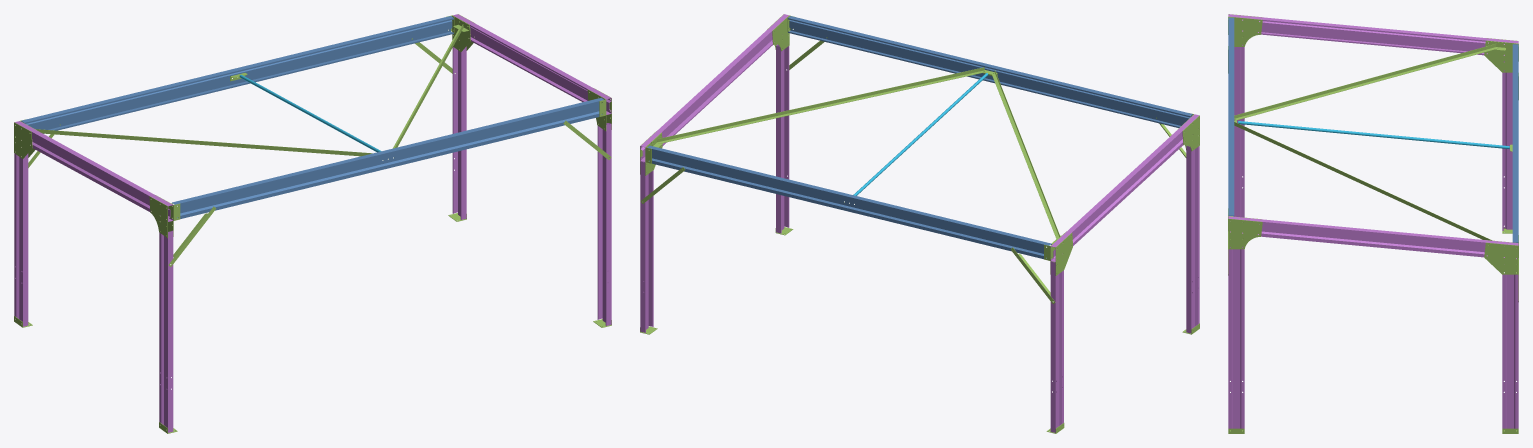
The model's file is abri-monopente-3x5m.gltf.
3 views of the same model, side by side, from view 1: azimuth 30°, elevation 25°; view 2: azimuth 150°, elevation 25°; view 3: azimuth 270°, elevation 25° (orthographic). The views are drawn at different scales.
Parts seen in each view (by area): view 1: SOLID019, SOLID008, SOLID001, SOLID021, SOLID022, SOLID002, SOLID, SOLID020, SOLID011, SOLID012, SOLID034; view 2: SOLID008, SOLID019, SOLID002, SOLID022, SOLID001, SOLID021, SOLID, SOLID020, SOLID034, SOLID011, SOLID012; view 3: SOLID022, SOLID002, SOLID021, SOLID020, SOLID001, SOLID, SOLID011, SOLID019, SOLID008, SOLID034, SOLID012, SOLID028 (+3 smaller).
Boxes of the visible parts, bbox=[...] form: SOLID019: bbox=[172, 97, 603, 218]; SOLID008: bbox=[21, 16, 453, 133]; SOLID001: bbox=[159, 230, 173, 432]; SOLID021: bbox=[597, 123, 611, 325]; SOLID022: bbox=[453, 14, 611, 114]; SOLID002: bbox=[15, 121, 173, 221]; SOLID: bbox=[14, 142, 28, 326]; SOLID020: bbox=[452, 35, 466, 219]; SOLID011: bbox=[35, 129, 372, 156]; SOLID012: bbox=[239, 74, 381, 152]; SOLID034: bbox=[393, 24, 463, 148]; SOLID008: bbox=[647, 145, 1051, 259]; SOLID019: bbox=[788, 16, 1192, 127]; SOLID002: bbox=[1050, 114, 1199, 262]; SOLID022: bbox=[640, 14, 788, 161]; SOLID001: bbox=[1186, 144, 1199, 333]; SOLID021: bbox=[776, 44, 789, 233]; SOLID: bbox=[1050, 260, 1063, 432]; SOLID020: bbox=[640, 161, 653, 332]; SOLID034: bbox=[657, 67, 985, 143]; SOLID011: bbox=[991, 70, 1060, 239]; SOLID012: bbox=[853, 73, 988, 195]; SOLID022: bbox=[1228, 216, 1518, 258]; SOLID002: bbox=[1228, 14, 1518, 55]; SOLID021: bbox=[1228, 247, 1244, 428]; SOLID020: bbox=[1502, 274, 1518, 428]; SOLID001: bbox=[1234, 44, 1244, 217]; SOLID: bbox=[1502, 61, 1512, 230]; SOLID011: bbox=[1234, 44, 1497, 120]; SOLID019: bbox=[1228, 17, 1234, 216]; SOLID008: bbox=[1512, 44, 1518, 242]; SOLID034: bbox=[1234, 122, 1492, 240]; SOLID012: bbox=[1238, 121, 1509, 149]; SOLID028: bbox=[1484, 242, 1518, 274].
Bounding box in the file's own units: 5.01 × 2.45 × 3.01.
